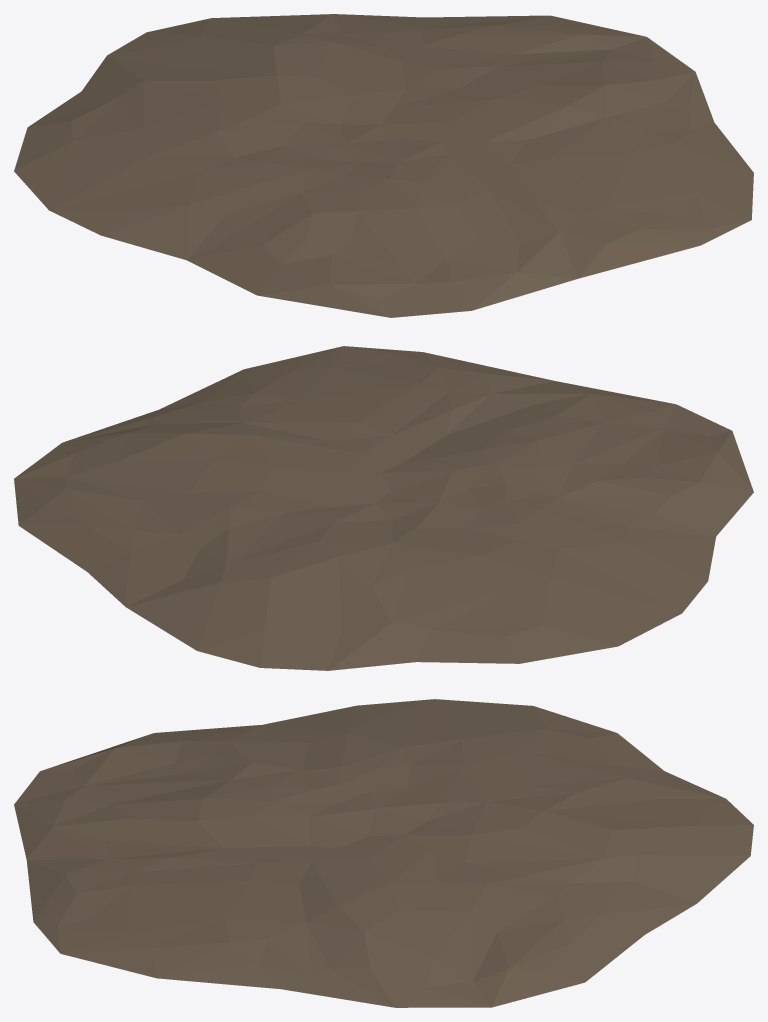
File: samurai_SM_Gen_Env_Ground_Dirt_03.gltf
The picture shows the model from 3 angles, top to bottom: view 1: azimuth 30°, elevation 25°; view 2: azimuth 150°, elevation 25°; view 3: azimuth 270°, elevation 25°; orthographic projection. The views are drawn at different scales.
Visible parts, largest first — view 1: SM_Gen_Env_Ground_Dirt_03; view 2: SM_Gen_Env_Ground_Dirt_03; view 3: SM_Gen_Env_Ground_Dirt_03.
Part boxes in pixels (x1,y1,x2,y2): SM_Gen_Env_Ground_Dirt_03: (14,14,753,317); SM_Gen_Env_Ground_Dirt_03: (14,346,753,670); SM_Gen_Env_Ground_Dirt_03: (14,699,753,1007).
Size of the model in its own units: 9.38 by 0.3804 by 9.5.
Materials: 1 (1 with a texture image).
